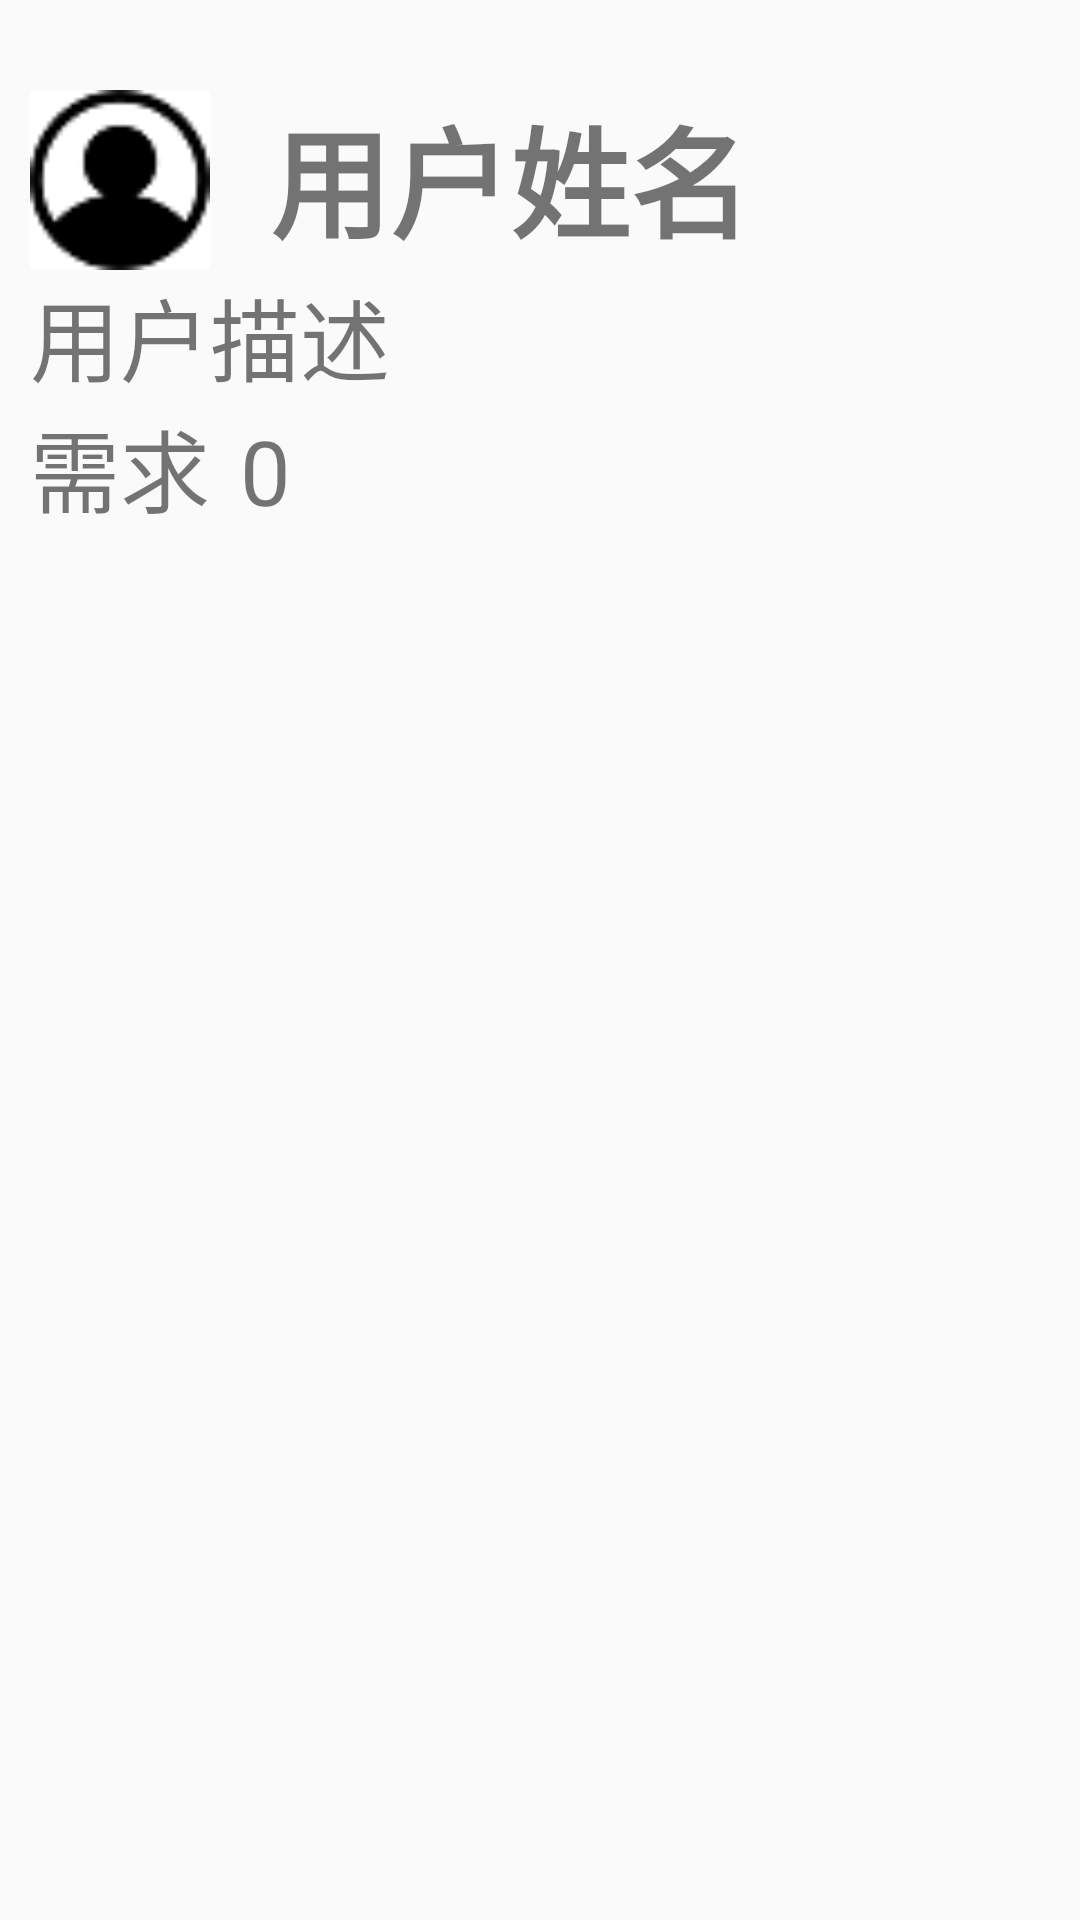

Screen size 1080 x 1920. Icon name, then its box in pixels as (x1, y1, x2, y2):
defaulthead: (30, 90, 210, 270)
